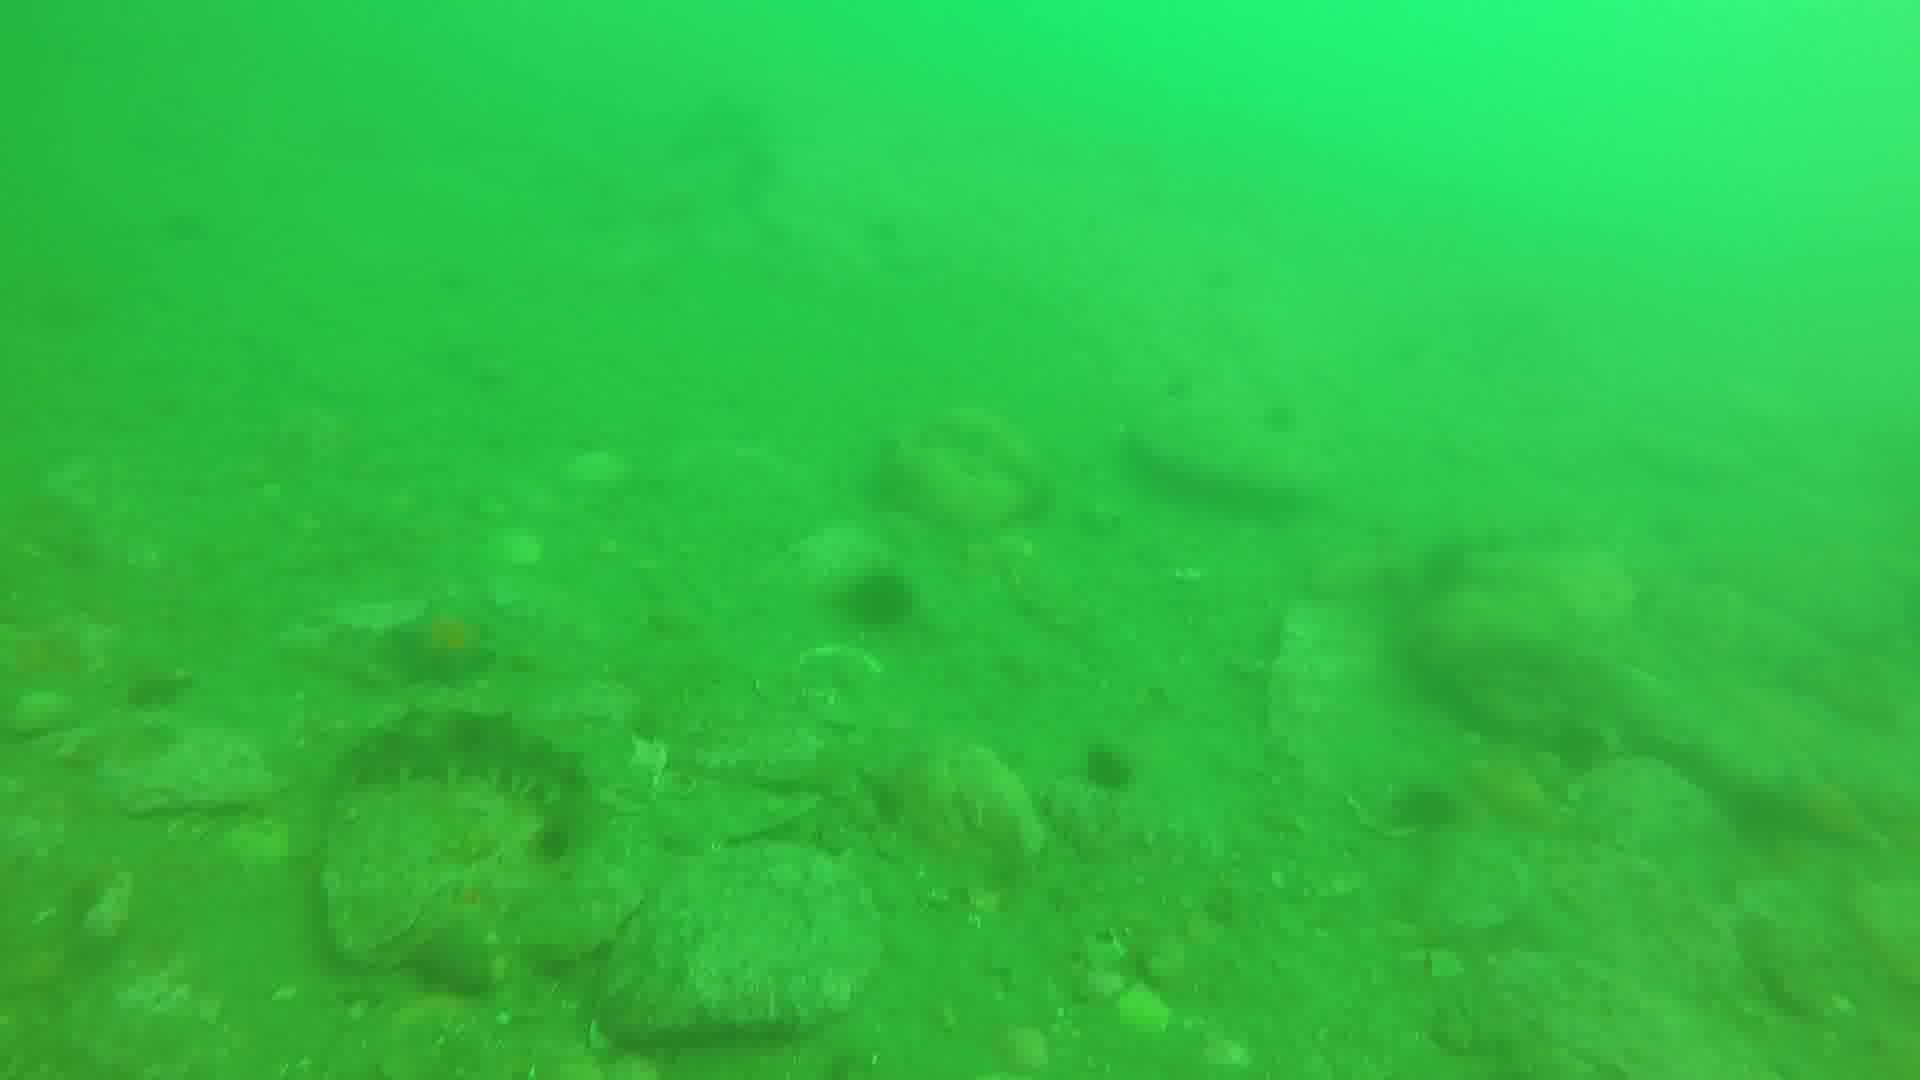echinus: (852, 562, 919, 621), (1400, 781, 1472, 835), (1084, 738, 1138, 789)
holothurian: (335, 712, 582, 798)
starfish: (392, 605, 498, 688)
